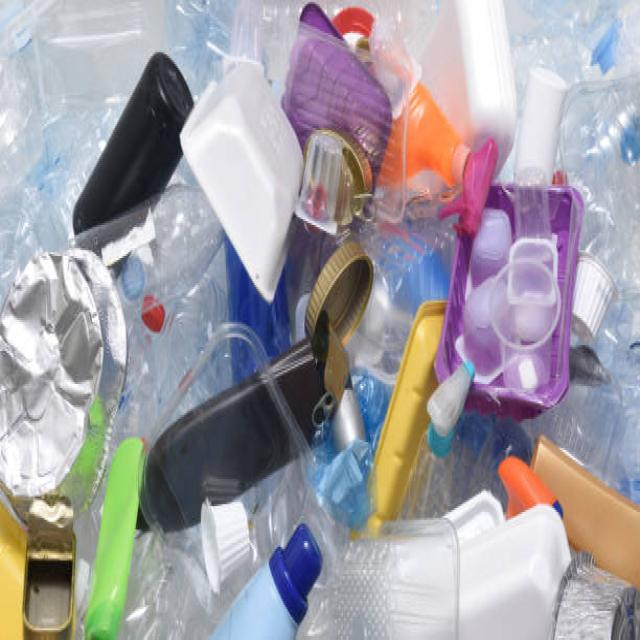plastic: (117, 21, 623, 545)
